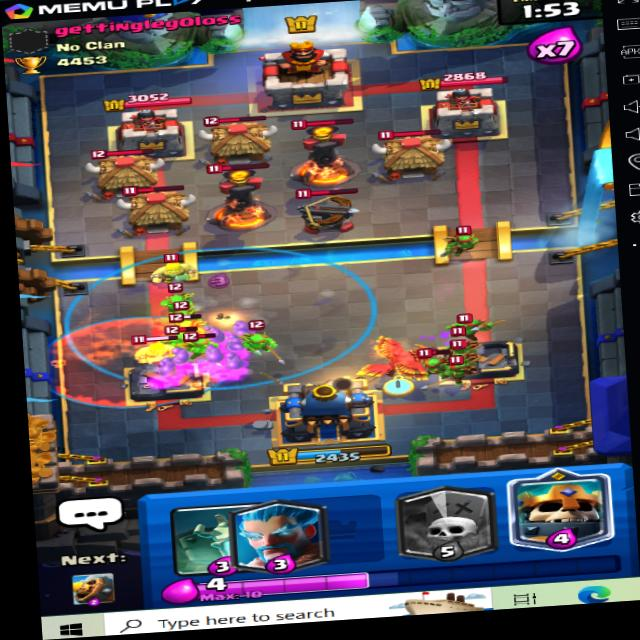barbarian: (147, 251, 201, 284), (131, 333, 177, 368)
goblin-hut: (113, 178, 200, 235), (195, 109, 279, 168), (375, 124, 451, 181), (88, 146, 169, 198)
inferno-tower: (198, 156, 291, 240), (287, 114, 357, 184)
spear-goblin: (416, 342, 456, 380), (438, 354, 473, 387), (443, 227, 477, 258), (446, 332, 482, 357), (183, 330, 218, 355), (462, 310, 493, 335), (161, 281, 189, 308), (155, 270, 186, 294), (164, 306, 200, 326), (244, 324, 269, 351)
x-bow: (283, 178, 366, 235)
